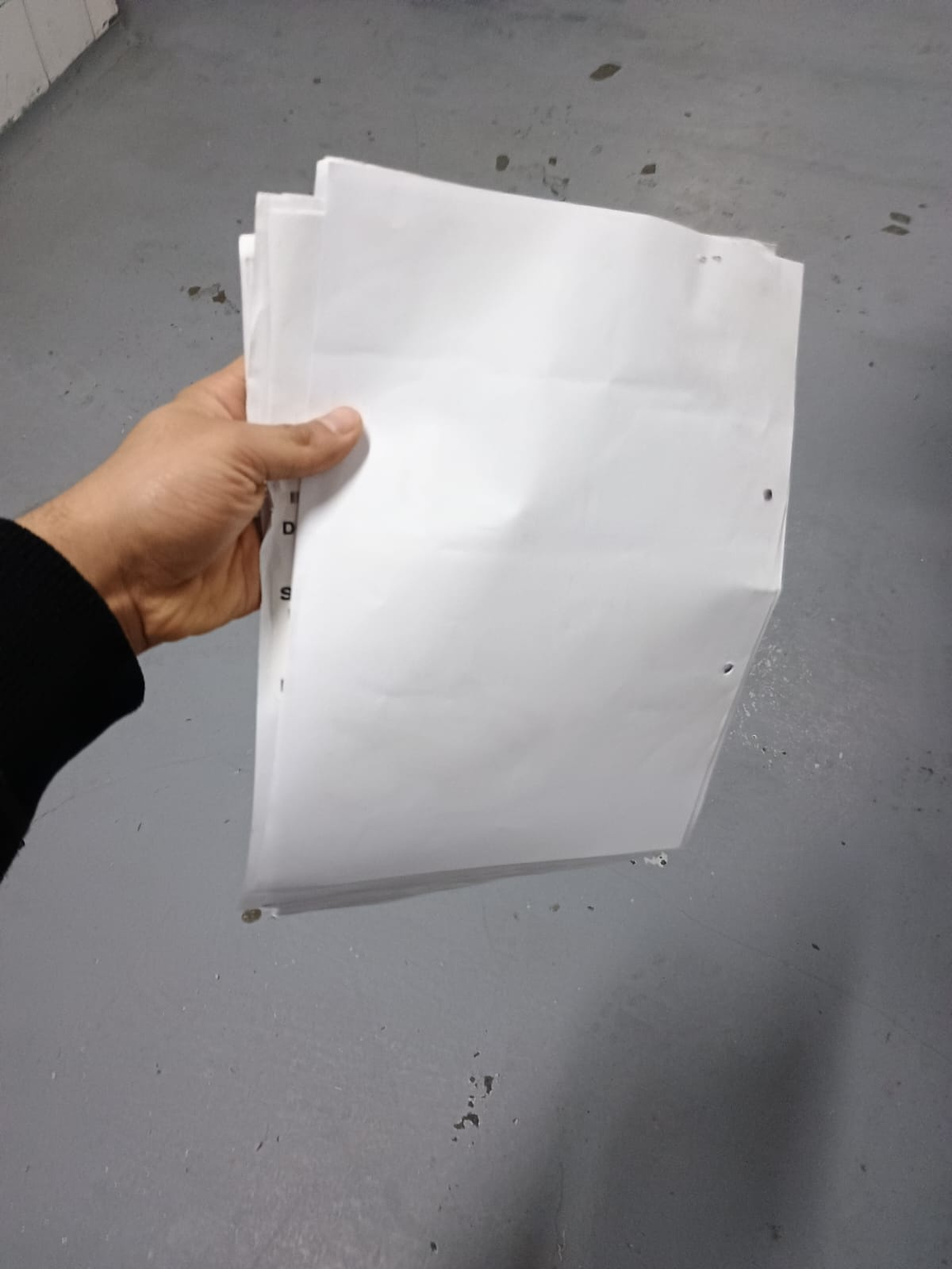Papel: (239, 154, 804, 915)
